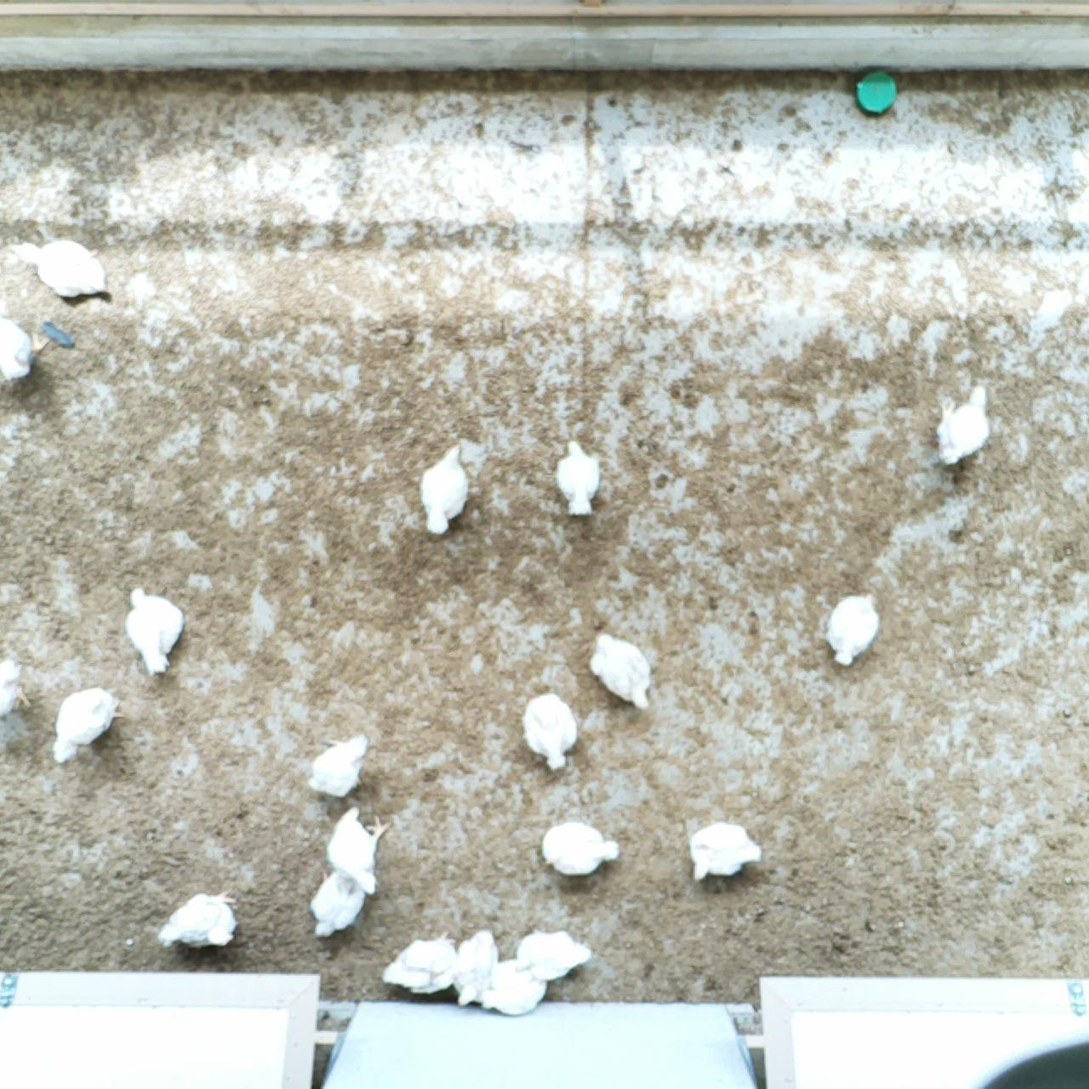chicken: (2, 233, 113, 301), (117, 583, 190, 682), (49, 680, 129, 767), (323, 803, 394, 899), (375, 926, 469, 998), (585, 629, 659, 717), (150, 885, 244, 952), (536, 818, 622, 887), (929, 378, 993, 470), (686, 814, 767, 885), (519, 687, 583, 775), (416, 441, 473, 539), (303, 727, 373, 806), (820, 587, 885, 669), (307, 861, 371, 943), (549, 432, 607, 521), (512, 924, 598, 984), (479, 949, 553, 1016), (445, 927, 503, 1012), (0, 311, 53, 389), (0, 654, 35, 725)
